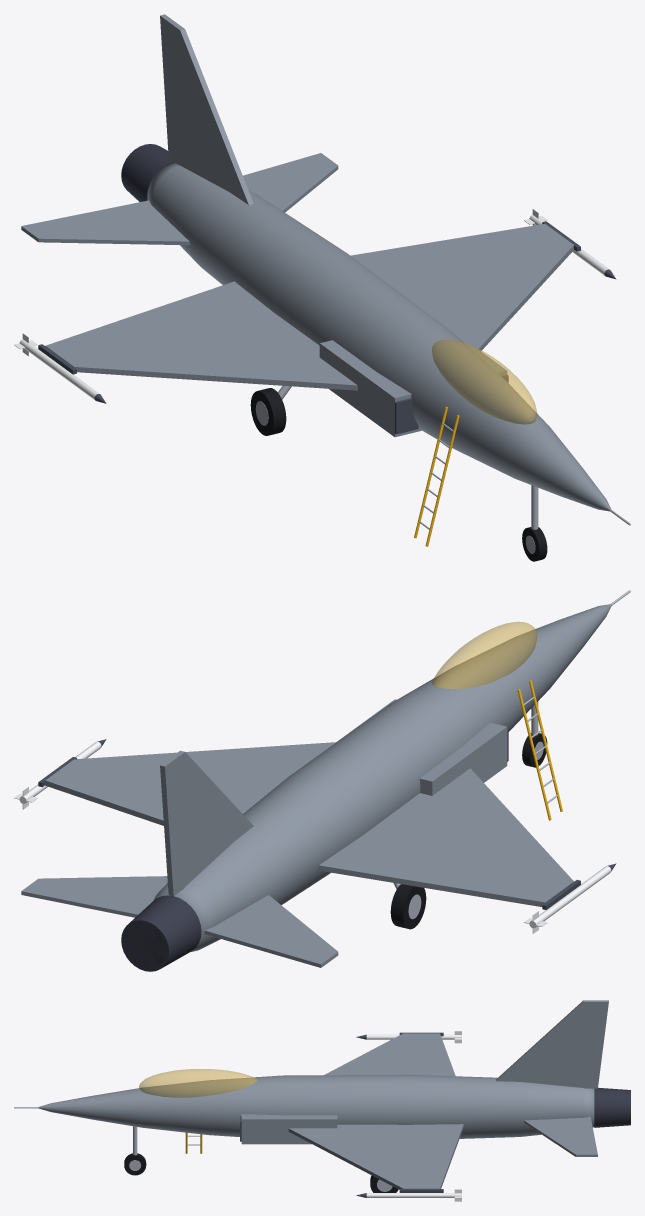
The model's file is air-005.glb.
The picture shows the model from 3 angles, top to bottom: view 1: azimuth 30°, elevation 25°; view 2: azimuth 150°, elevation 25°; view 3: azimuth 270°, elevation 25°; orthographic projection. The views are drawn at different scales.
Parts seen in each view (by area): view 1: jet_grey, canopy_glass, dark_steel, rubber, white, jet_dark, steel, safety_yellow; view 2: jet_grey, dark_steel, canopy_glass, rubber, white, safety_yellow, steel, jet_dark; view 3: jet_grey, canopy_glass, dark_steel, white, rubber, steel, jet_dark.
Part boxes in pixels (bbox=[...]): jet_grey: bbox=[21, 14, 611, 511]; canopy_glass: bbox=[432, 339, 537, 424]; dark_steel: bbox=[121, 144, 174, 201]; rubber: bbox=[250, 388, 547, 561]; white: bbox=[14, 209, 609, 399]; jet_dark: bbox=[38, 221, 616, 434]; steel: bbox=[255, 386, 630, 553]; safety_yellow: bbox=[414, 406, 459, 546]; jet_grey: bbox=[21, 604, 611, 967]; dark_steel: bbox=[121, 895, 201, 971]; canopy_glass: bbox=[432, 621, 537, 689]; rubber: bbox=[390, 733, 547, 929]; white: bbox=[14, 741, 611, 933]; safety_yellow: bbox=[517, 680, 562, 820]; steel: bbox=[393, 590, 630, 919]; jet_dark: bbox=[38, 729, 616, 909]; jet_grey: bbox=[38, 1000, 608, 1189]; canopy_glass: bbox=[139, 1069, 256, 1097]; dark_steel: bbox=[594, 1087, 630, 1127]; white: bbox=[366, 1031, 461, 1201]; rubber: bbox=[124, 1153, 398, 1192]; steel: bbox=[14, 1107, 392, 1191]; jet_dark: bbox=[240, 1032, 443, 1197].
Size of the model in its own units: 9.5 by 4.69 by 15.12.
